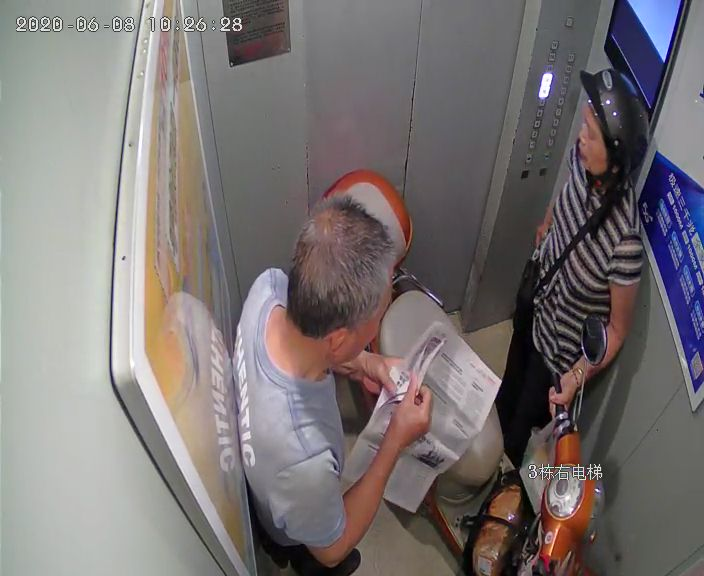Electric-bicycle: (321, 169, 604, 574)
